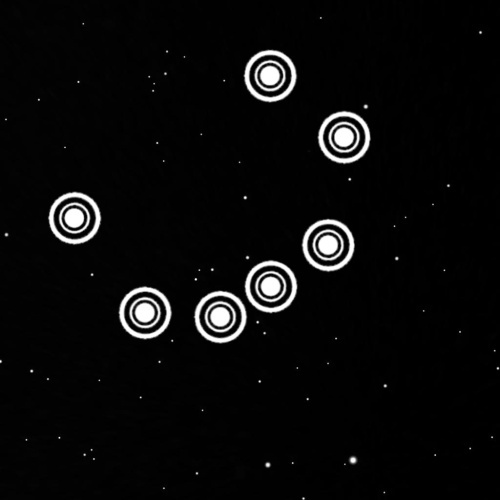corona_borealis: (40, 43, 378, 351)
